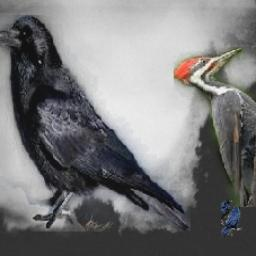Crow: (0, 16, 191, 233), (221, 201, 246, 237)
Woodpecker: (174, 47, 256, 207)
